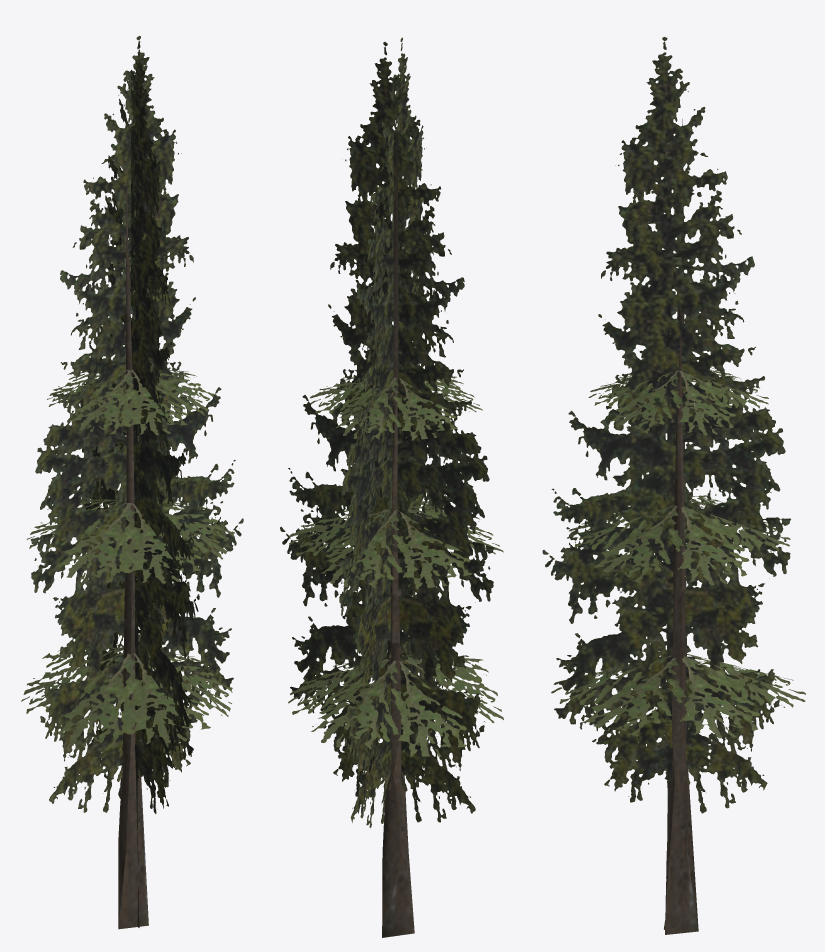
The model's file is smrk_k2.glb.
3 renders of one model, left to right at view 1: azimuth 30°, elevation 25°; view 2: azimuth 150°, elevation 25°; view 3: azimuth 270°, elevation 25°, orthographic.
Parts seen in each view (by area): view 1: Background_Tree_Atlas.003_Background_Tree_Atlas_0; view 2: Background_Tree_Atlas.003_Background_Tree_Atlas_0; view 3: Background_Tree_Atlas.003_Background_Tree_Atlas_0.
Boxes of the visible parts, box(x1,y1,x2,y2) form: Background_Tree_Atlas.003_Background_Tree_Atlas_0: box(21, 36, 243, 929); Background_Tree_Atlas.003_Background_Tree_Atlas_0: box(280, 37, 503, 937); Background_Tree_Atlas.003_Background_Tree_Atlas_0: box(542, 37, 805, 934).
Bounding box in the file's own units: 4.48 × 17.43 × 4.72.
Materials: 1 (1 with a texture image).
